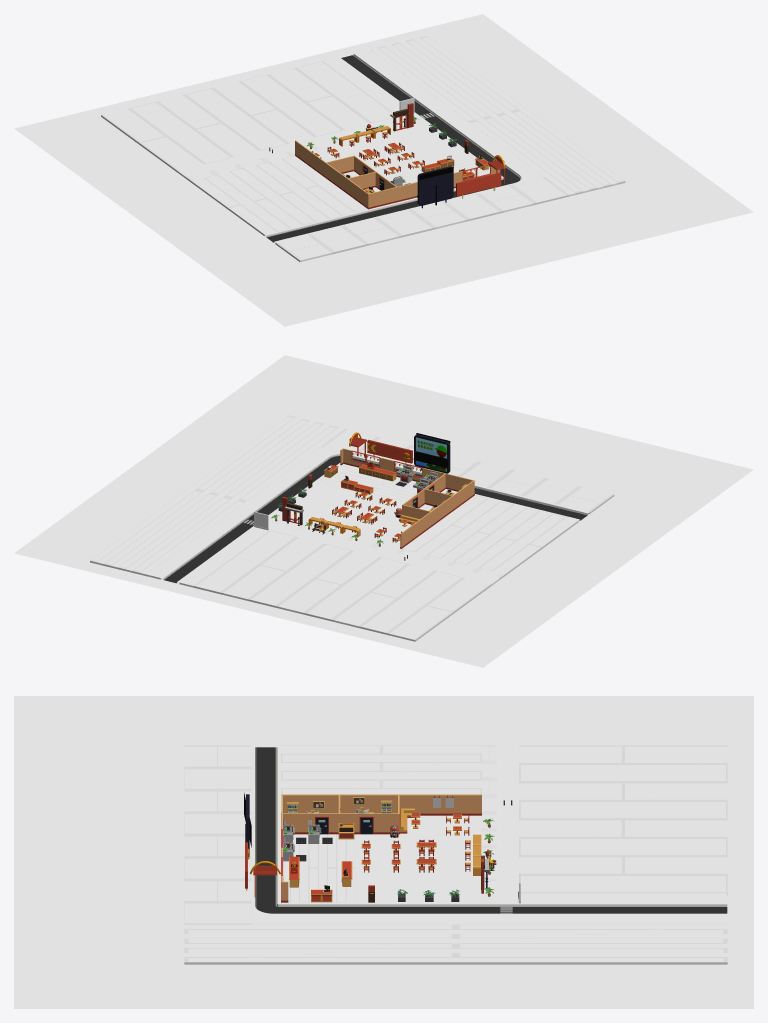
File: stage01_cocos.fbx
3 views of the same model, one above another, from view 1: azimuth 30°, elevation 25°; view 2: azimuth 150°, elevation 25°; view 3: azimuth 270°, elevation 25° (orthographic). The views are drawn at different scales.
Parts seen in each view (by area): view 1: floor_board, floor_board_side8, floor_board_side6, floor_board_side9, floor_board_side7, road_plane2, road_plane3, floor_board_side2, SM_Env_Sidewalk_011, SM_Env_Sidewalk_013, SM_Env_Sidewalk_012, 00_Ad (+6 smaller); view 2: floor_board, floor_board_side8, floor_board_side6, floor_board_side9, floor_board_side7, road_plane2, floor_board_side2, SM_Env_Sidewalk_011, floor_board_corner4, road_plane3, SM_Env_Sidewalk_013, SM_Env_Sidewalk_012 (+5 smaller); view 3: floor_board, floor_board_side8, floor_board_side6, floor_board_side7, floor_board_side9, road_plane2, road_plane3, floor_board_side2, floor_board_corner4, SM_Env_Sidewalk_011, SM_Env_Sidewalk_013, SM_Env_Sidewalk_012 (+6 smaller).
Part boxes in pixels (x1=…): floor_board: x1=14, y1=14, x2=753, y2=326; floor_board_side8: x1=101, y1=61, x2=392, y2=171; floor_board_side6: x1=370, y1=35, x2=625, y2=196; floor_board_side9: x1=191, y1=155, x2=367, y2=236; floor_board_side7: x1=275, y1=177, x2=568, y2=262; road_plane2: x1=337, y1=53, x2=518, y2=177; road_plane3: x1=265, y1=178, x2=510, y2=242; floor_board_side2: x1=361, y1=139, x2=472, y2=178; SM_Env_Sidewalk_011: x1=177, y1=122, x2=379, y2=178; SM_Env_Sidewalk_013: x1=356, y1=49, x2=459, y2=118; SM_Env_Sidewalk_012: x1=446, y1=115, x2=543, y2=180; 00_Ad: x1=417, y1=166, x2=453, y2=208; floor_board: x1=14, y1=355, x2=753, y2=667; floor_board_side8: x1=193, y1=530, x2=491, y2=641; floor_board_side6: x1=90, y1=415, x2=344, y2=575; floor_board_side9: x1=402, y1=495, x2=578, y2=575; floor_board_side7: x1=321, y1=429, x2=614, y2=513; road_plane2: x1=161, y1=458, x2=340, y2=583; floor_board_side2: x1=295, y1=483, x2=402, y2=525; SM_Env_Sidewalk_011: x1=294, y1=530, x2=499, y2=585; floor_board_corner4: x1=316, y1=464, x2=416, y2=503; road_plane3: x1=352, y1=455, x2=589, y2=520; SM_Env_Sidewalk_013: x1=146, y1=509, x2=249, y2=579; SM_Env_Sidewalk_012: x1=236, y1=447, x2=334, y2=511; floor_board: x1=14, y1=696, x2=753, y2=1008; floor_board_side8: x1=519, y1=745, x2=727, y2=895; floor_board_side6: x1=184, y1=924, x2=727, y2=964; floor_board_side7: x1=184, y1=745, x2=251, y2=924; floor_board_side9: x1=281, y1=745, x2=481, y2=812; road_plane2: x1=281, y1=902, x2=727, y2=915; road_plane3: x1=251, y1=745, x2=280, y2=904; floor_board_side2: x1=355, y1=833, x2=422, y2=902; floor_board_corner4: x1=283, y1=834, x2=355, y2=902; SM_Env_Sidewalk_011: x1=496, y1=745, x2=518, y2=877; SM_Env_Sidewalk_013: x1=482, y1=915, x2=727, y2=924; SM_Env_Sidewalk_012: x1=251, y1=915, x2=481, y2=924.
Size of the model in its own units: 9945 by 792 by 9945.
